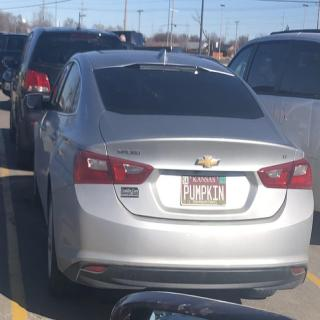license: (181, 174, 228, 208)
